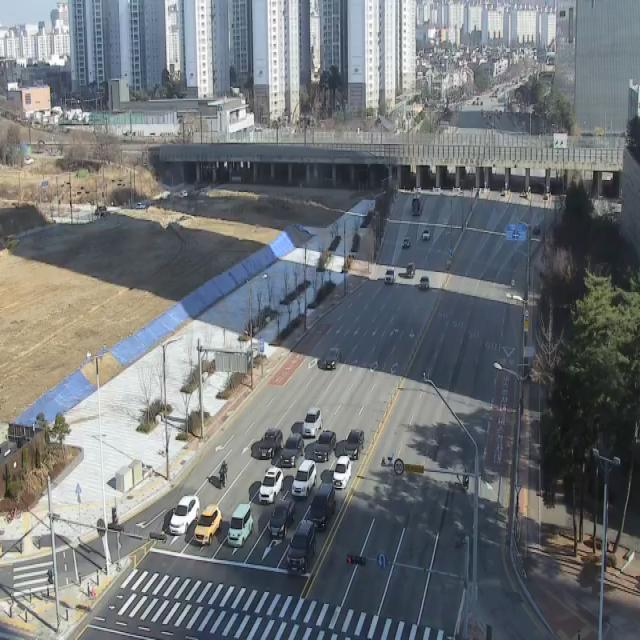Car: (286, 521, 316, 574), (308, 482, 336, 530), (169, 496, 200, 534), (228, 504, 254, 546), (268, 499, 295, 539), (195, 505, 222, 544), (292, 460, 316, 498), (258, 468, 284, 503), (280, 434, 304, 467), (258, 430, 283, 459), (313, 431, 336, 462), (344, 430, 365, 460), (302, 407, 322, 437), (333, 456, 351, 488), (325, 348, 341, 369), (384, 267, 396, 284), (419, 276, 430, 292), (406, 262, 416, 278), (422, 228, 432, 242), (402, 237, 411, 250)
Motorcycle: (214, 452, 234, 494)
